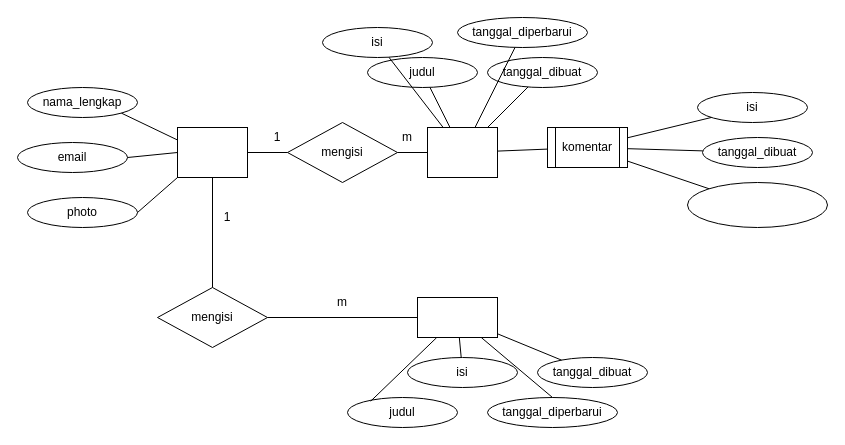
This 845x445 diagram has some shape labels left out. The shapes that lost their labels are listed below. From the top down, each one's centre as x and y in pixels, then its label:
At [212,152]: "profile".
At [462,152]: "pertanyaan".
At [757,205]: "pemberi_komentar_id".
At [457,317]: "jawaban".
